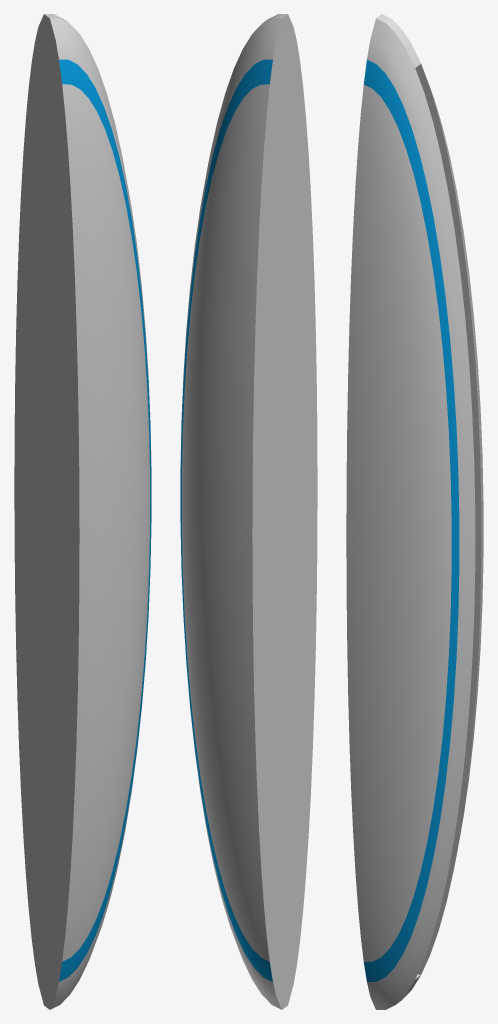
The model's file is disintegrator.fbx.
3 renders of one model, left to right at view 1: azimuth 30°, elevation 25°; view 2: azimuth 150°, elevation 25°; view 3: azimuth 330°, elevation 25°, orthographic.
Visible parts, largest first — view 1: Sphere; view 2: Sphere; view 3: Sphere.
Part boxes in pixels (x1,y1,x2,y2): Sphere: (14, 14, 151, 1009); Sphere: (180, 14, 317, 1009); Sphere: (346, 14, 483, 1009).
Size of the model in its own units: 31.46 by 300 by 35.7.
